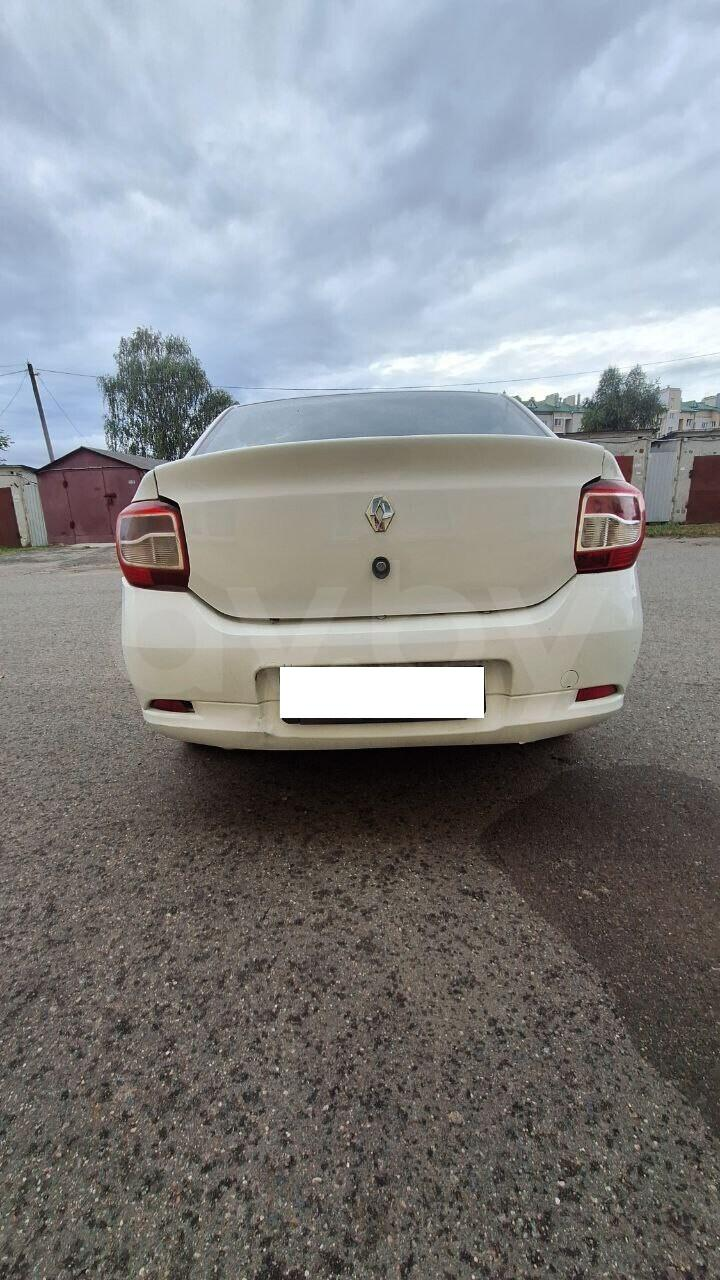Logan_2018: (117, 387, 653, 765)
